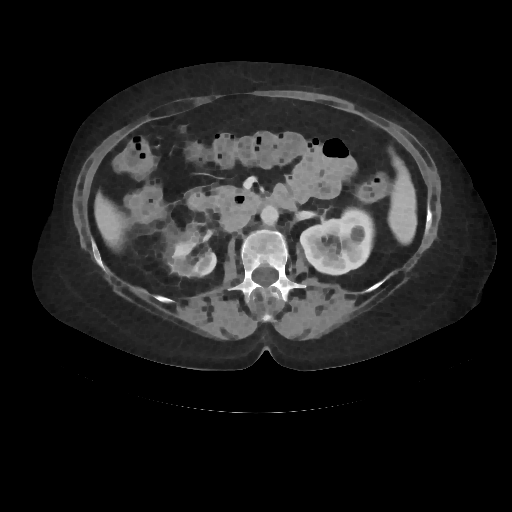Lesion: (346, 220, 368, 249)
